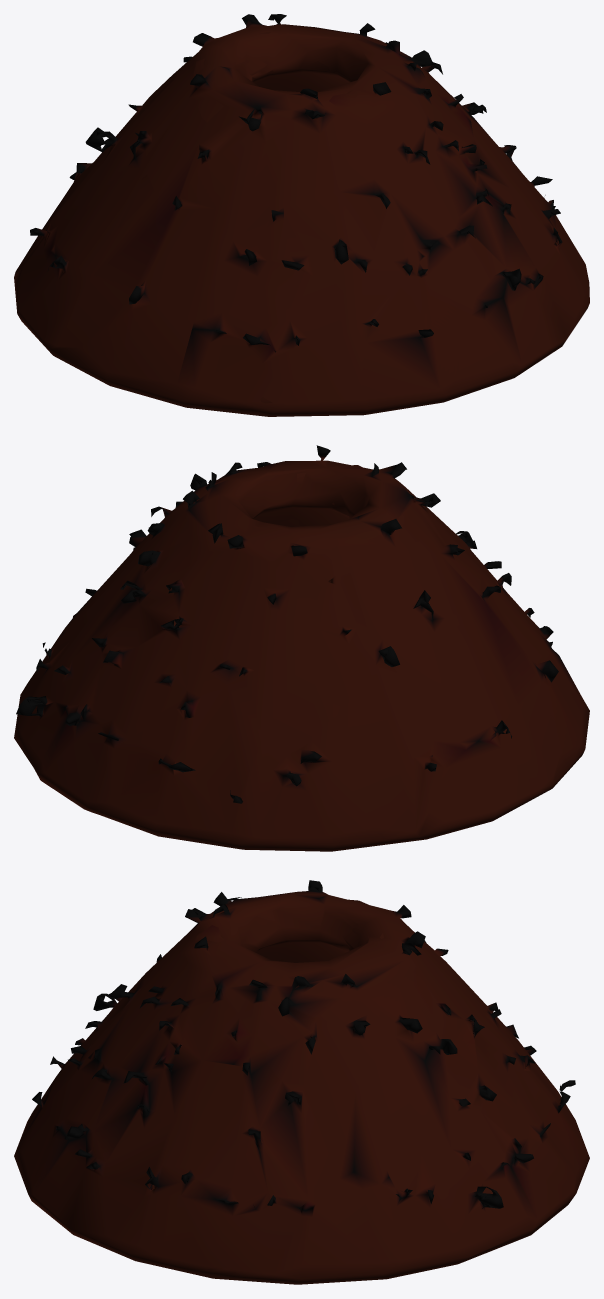
Rendered from gen3d-anthill-lod0.glb.
3 renders of one model, top to bottom at view 1: azimuth 30°, elevation 25°; view 2: azimuth 150°, elevation 25°; view 3: azimuth 270°, elevation 25°, orthographic.
Parts seen in each view (by area): view 1: part_0; view 2: part_0; view 3: part_0.
Part boxes in pixels (x1=…): part_0: x1=14, y1=14, x2=589, y2=416; part_0: x1=14, y1=445, x2=589, y2=851; part_0: x1=14, y1=880, x2=589, y2=1284.
Size of the model in its own units: 2.12 by 0.9959 by 2.12.
